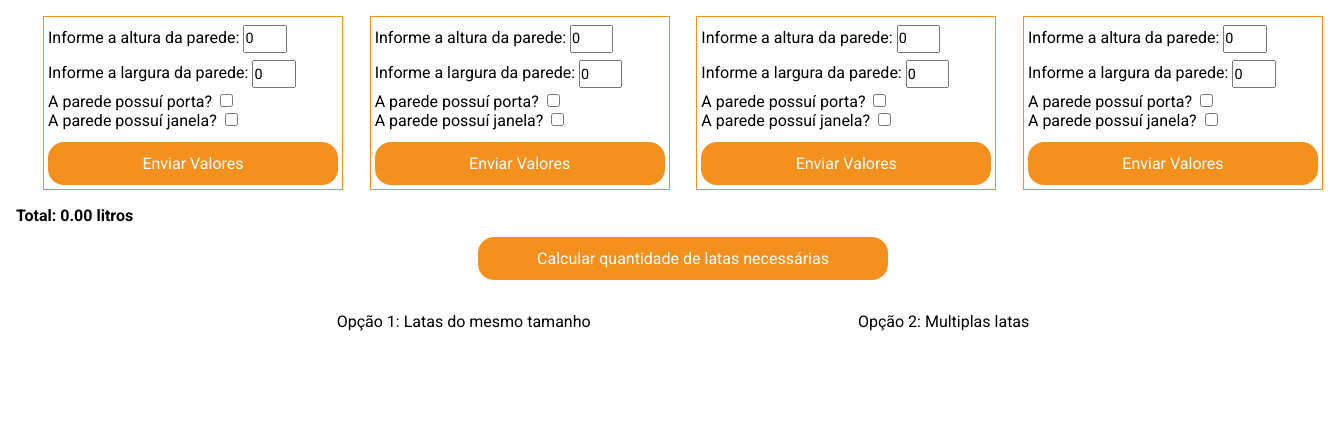
it: testa os inputs › o botão de enviar valores pode ser clicado
Click the 1st button "Enviar Valores": click(193, 163) [48,142,338,185]
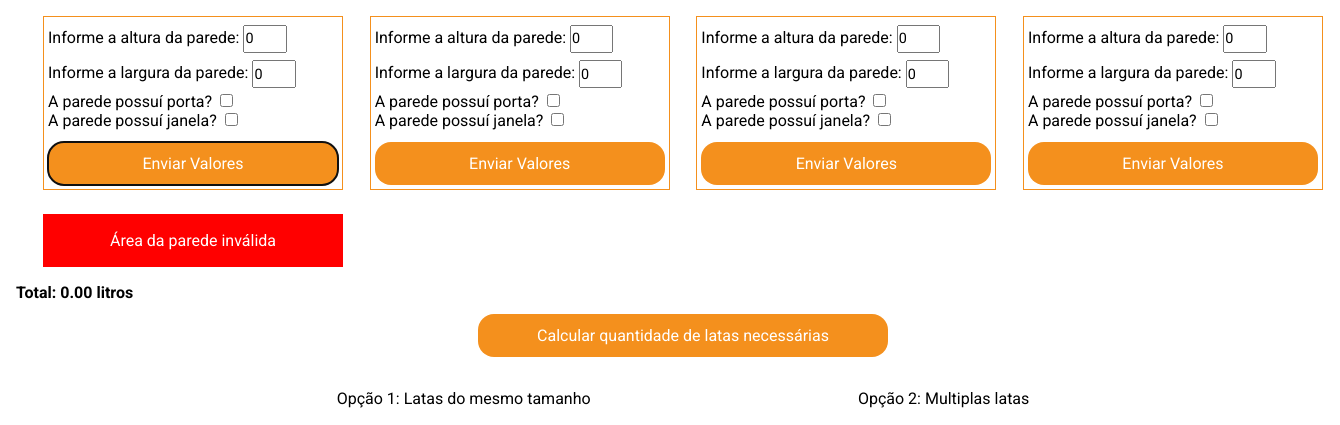
Expected: the text "Área da parede inválida" is shown, [43,214,343,267]
